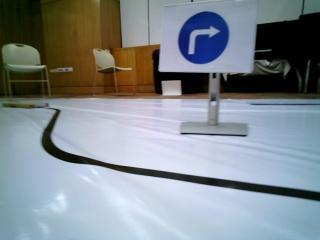right: (165, 7, 256, 70)
